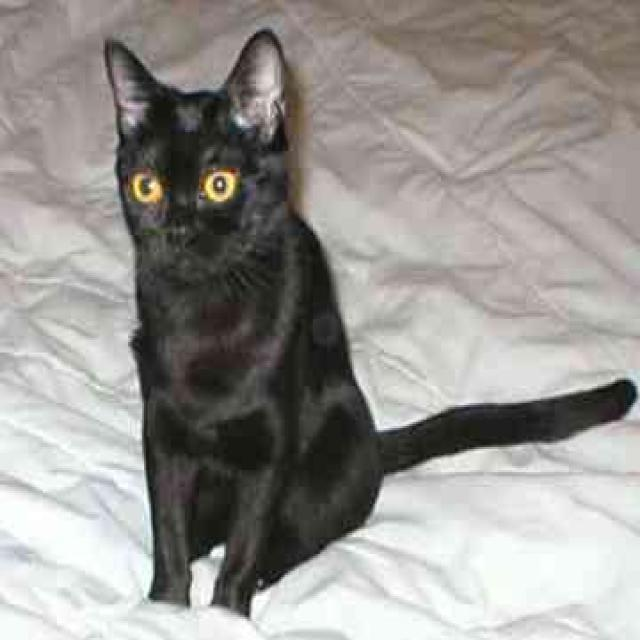Bombay: (102, 25, 287, 279)
